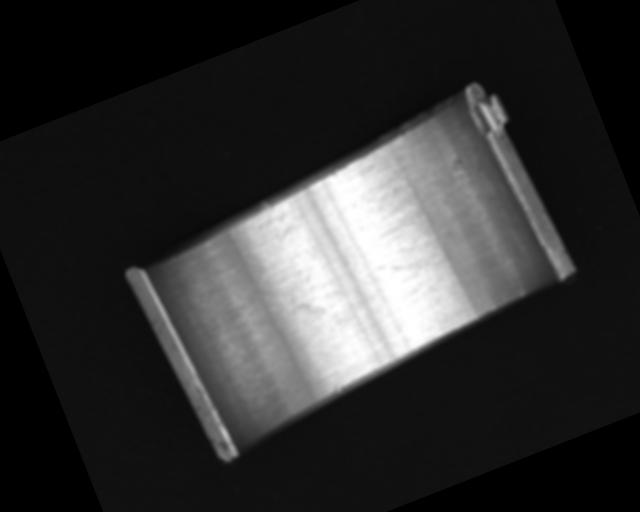blot: (259, 269, 329, 334)
bruise: (331, 383, 343, 394)
nick: (515, 282, 527, 298)
